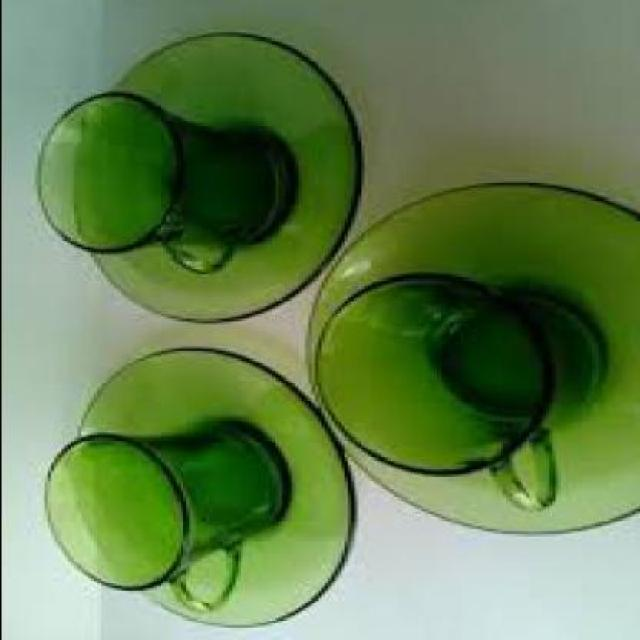GLASS: (304, 186, 636, 540), (70, 37, 356, 326), (73, 351, 350, 631), (311, 274, 594, 517), (30, 96, 284, 279), (40, 437, 274, 615)
